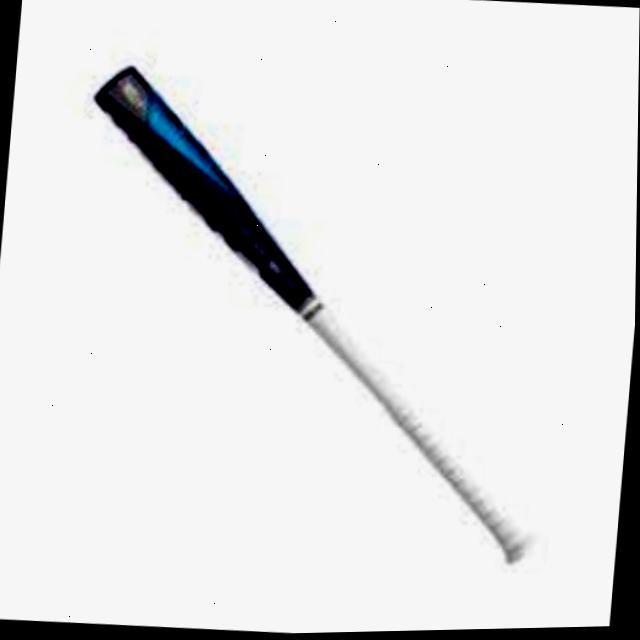baseball bat: (89, 57, 539, 562)
